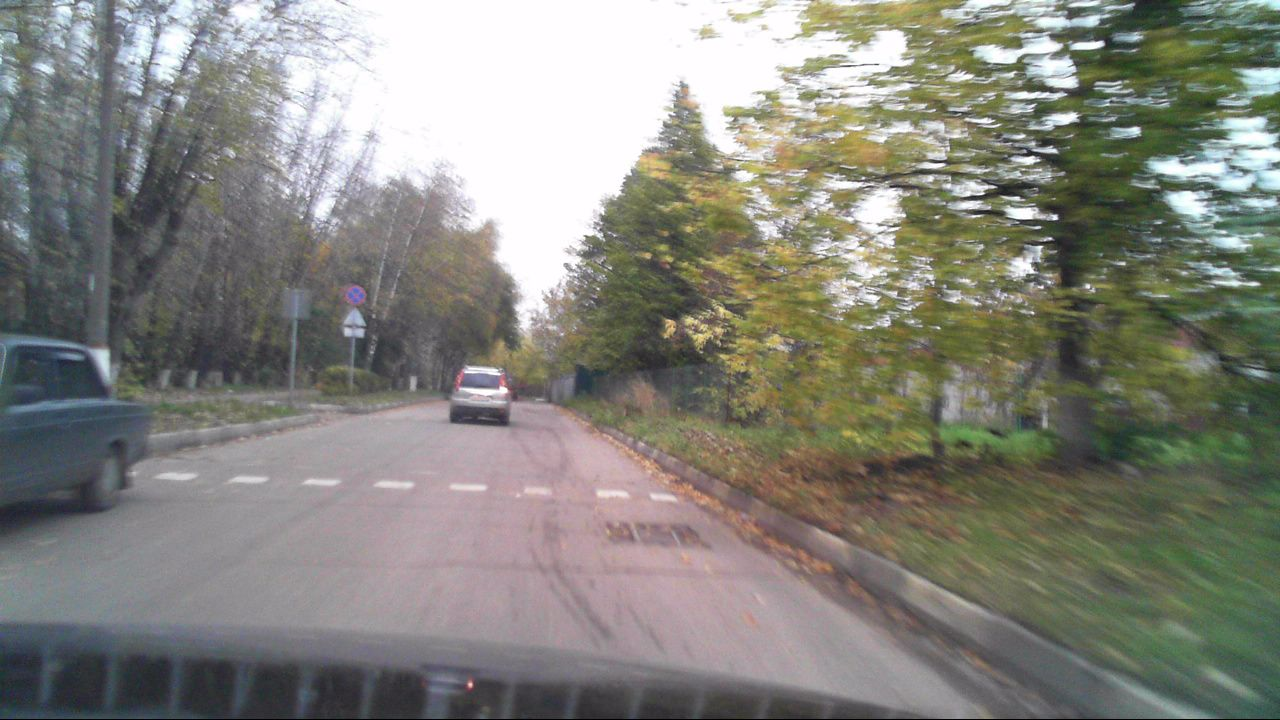No Parking: (345, 284, 367, 306)
